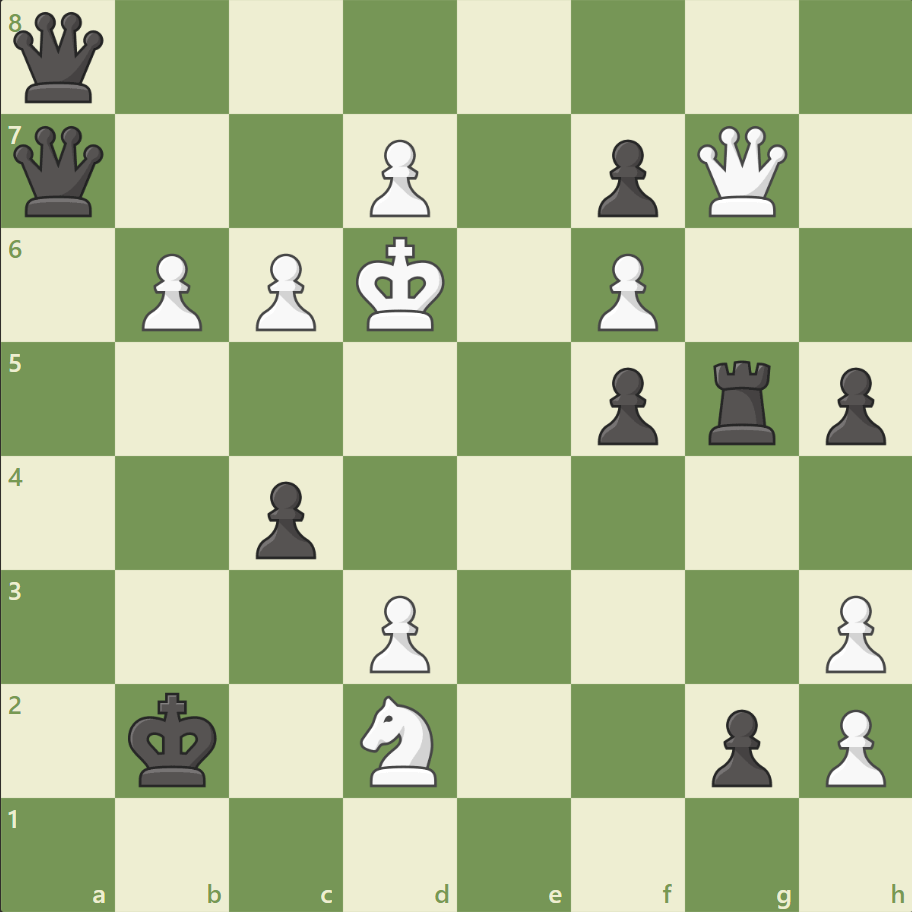K: (351, 231, 451, 339)
N: (351, 688, 449, 791)
P: (133, 246, 208, 337), (247, 246, 322, 337), (361, 132, 435, 223), (588, 246, 662, 337), (361, 586, 435, 677), (815, 586, 889, 677), (815, 700, 889, 791)
Q: (691, 122, 790, 222)
k: (124, 685, 224, 793)
p: (247, 473, 322, 564), (701, 700, 776, 791), (588, 132, 662, 223), (588, 359, 662, 450), (815, 359, 889, 450)
q: (10, 122, 109, 222), (10, 9, 109, 108)
r: (700, 352, 783, 449)
